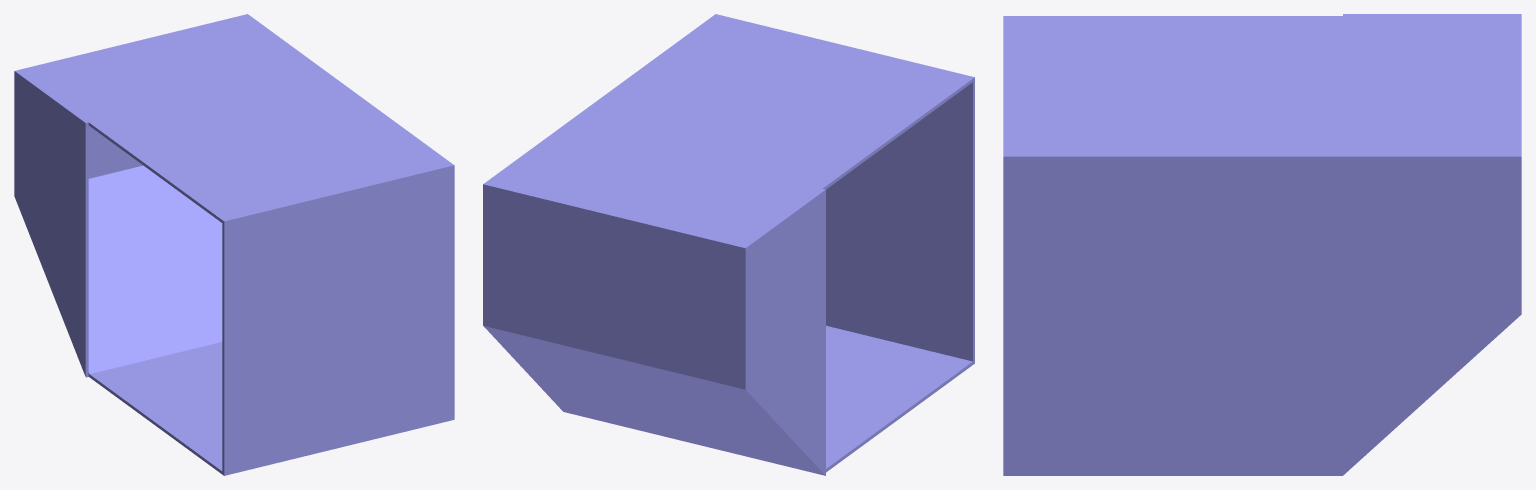
File: PartBody 18.FBX
3 renders of one model, left to right at view 1: azimuth 30°, elevation 25°; view 2: azimuth 150°, elevation 25°; view 3: azimuth 270°, elevation 25°, orthographic. The views are drawn at different scales.
Visible parts, largest first — view 1: PartBody; view 2: PartBody; view 3: PartBody.
Part boxes in pixels (x1=…): PartBody: x1=14, y1=14, x2=454, y2=475; PartBody: x1=483, y1=14, x2=974, y2=475; PartBody: x1=1003, y1=14, x2=1521, y2=475.
Size of the model in its own units: 155 by 238 by 162.
